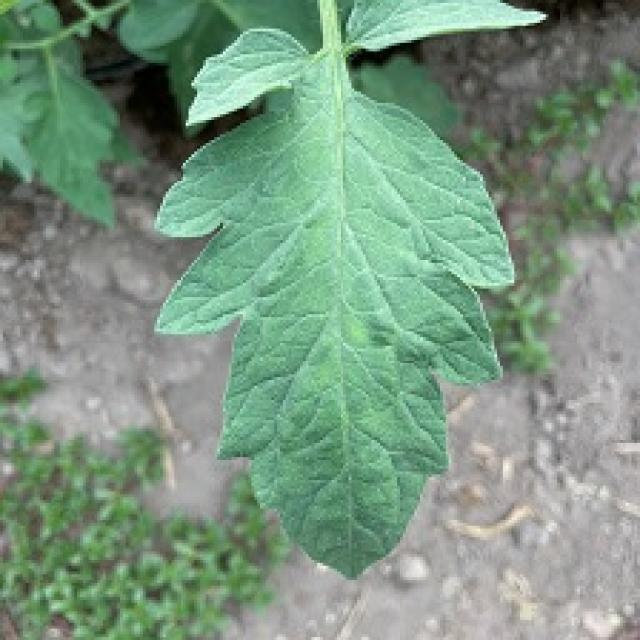Healthy: (82, 0, 589, 596)
